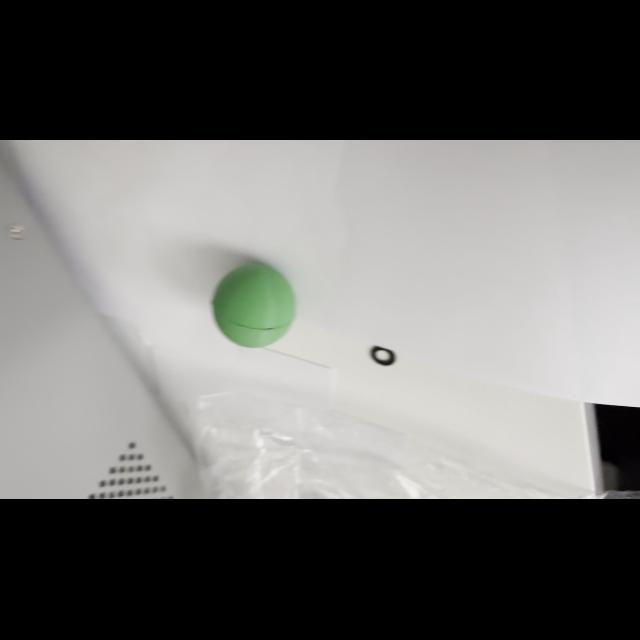objects: (208, 258, 302, 352)
